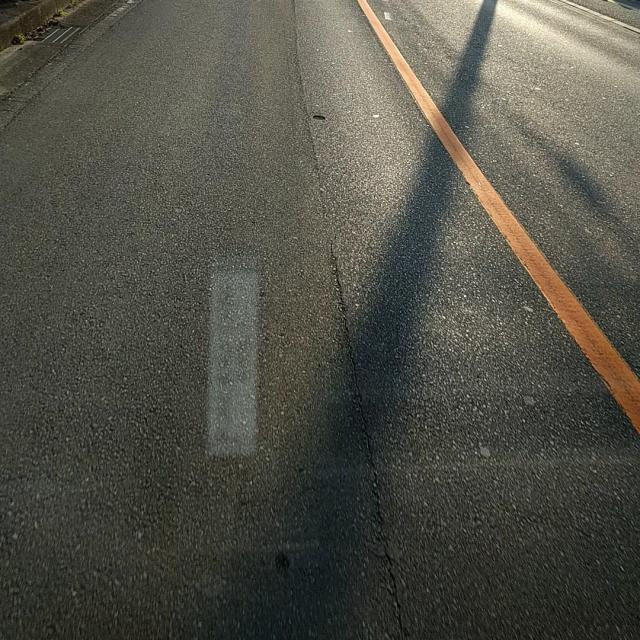Crack: (284, 0, 456, 640)
